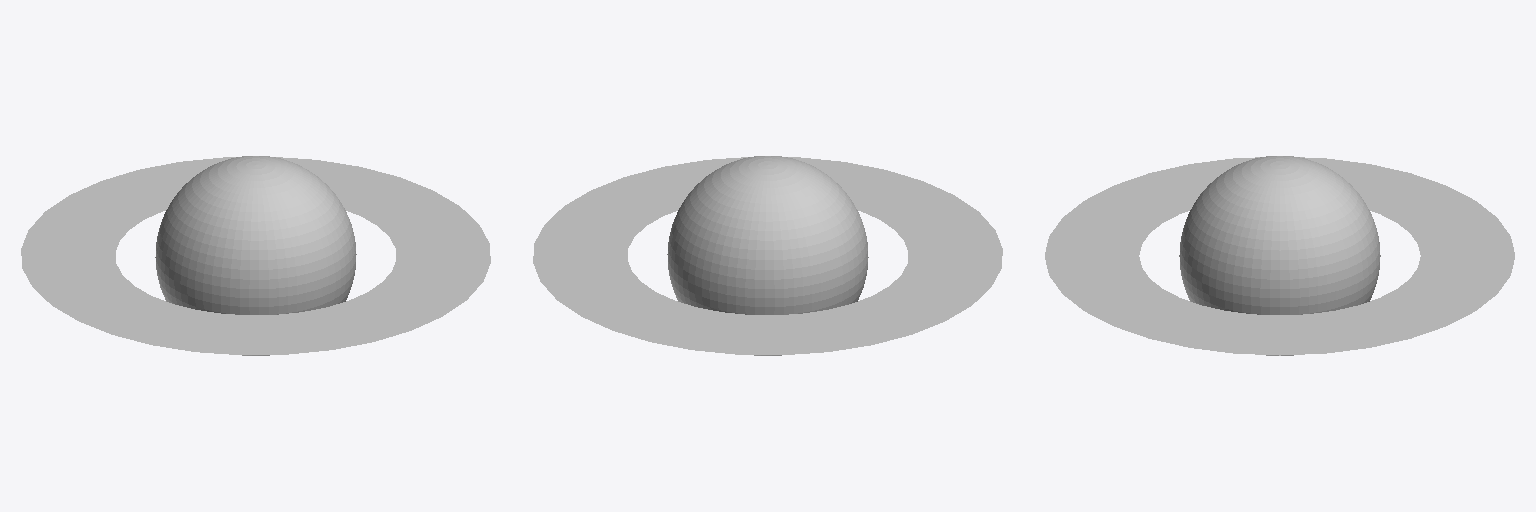
The model's file is Saturn.obj.
3 renders of one model, left to right at view 1: azimuth 30°, elevation 25°; view 2: azimuth 150°, elevation 25°; view 3: azimuth 270°, elevation 25°, orthographic.
Parts seen in each view (by area): view 1: Círculo, Esfera_UV; view 2: Círculo, Esfera_UV; view 3: Círculo, Esfera_UV.
Part boxes in pixels (x1,y1,x2,y2): Círculo: (21,157,490,354); Esfera_UV: (155,156,356,355); Círculo: (533,157,1002,354); Esfera_UV: (667,156,868,355); Círculo: (1045,157,1514,355); Esfera_UV: (1179,156,1380,355).
Size of the model in its own units: 44.02 by 18.8 by 44.02.